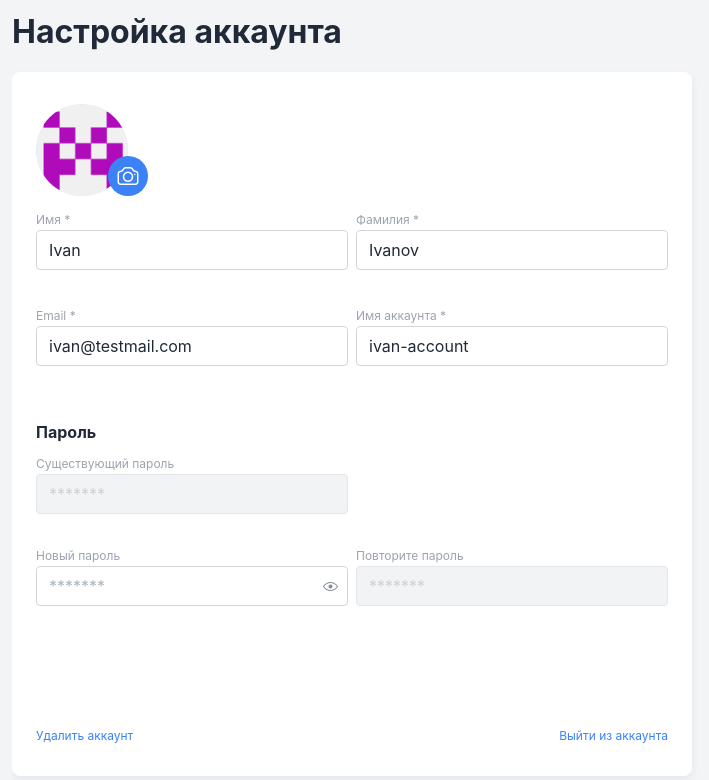
Test: ProfilePage › shows duplicate email error before saving
This screenshot has width=709, height=780.
Replace the text in the field labelled "Email *" with "taken@testmail.com" at {"x": 192, "y": 346}, box [36,326,348,366]
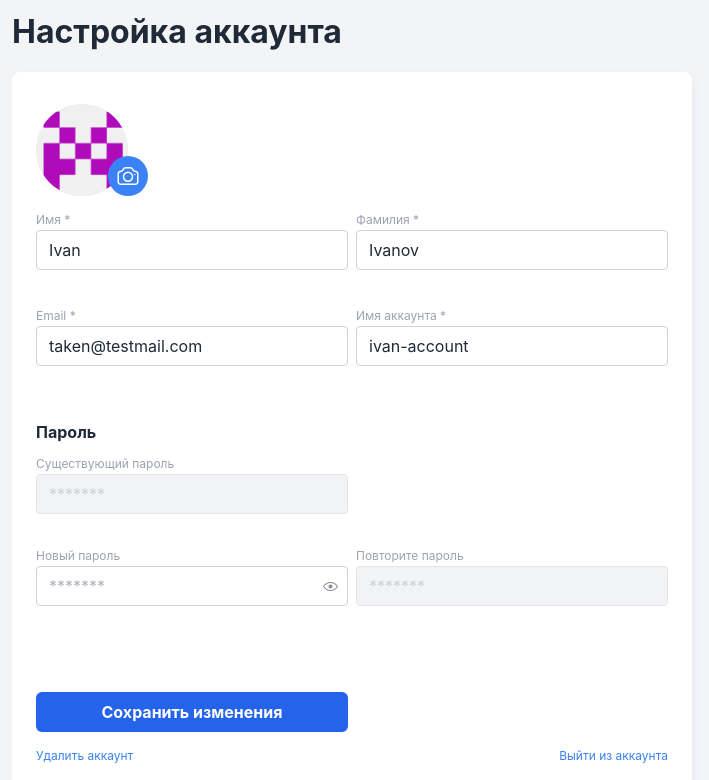
Click the button "Сохранить изменения".
click(192, 712)  # box [36,692,348,732]
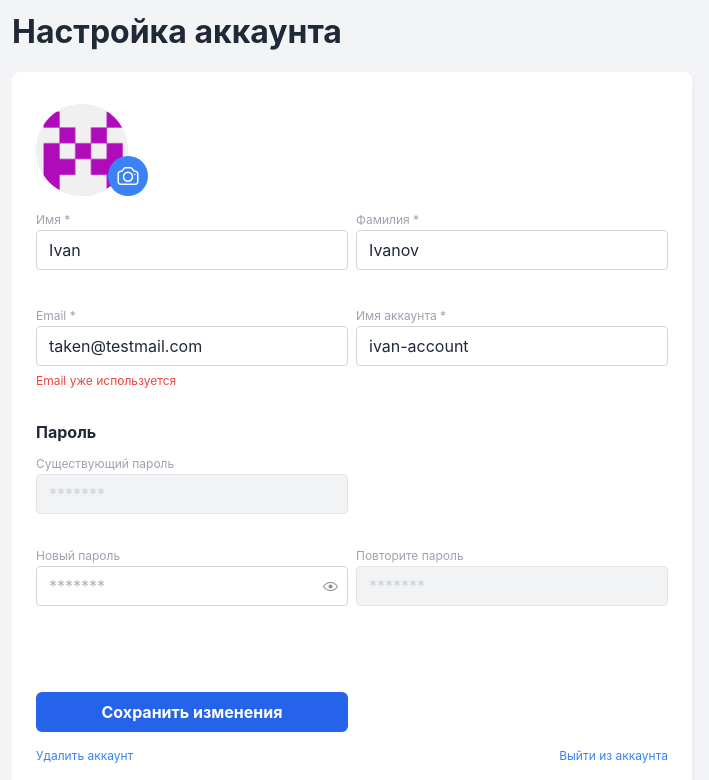
Check: the text "Email уже используется" is shown, box [36,373,176,388]
